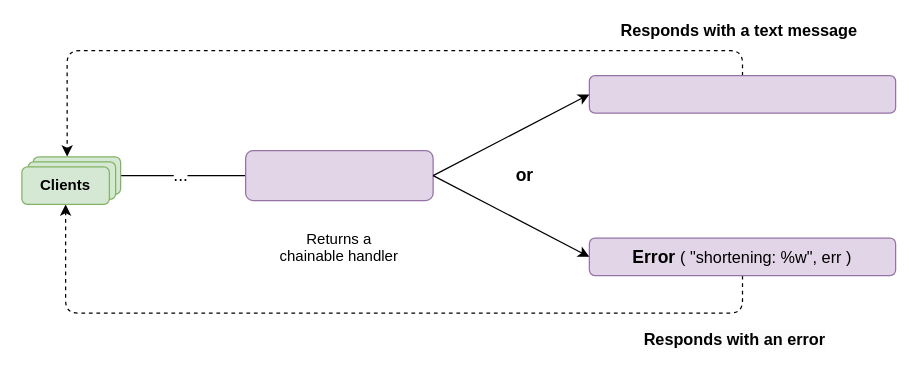
Some shapes in this 918 by 370 pixel diagram are drawn without their labels. Here are the shapes that lost their labels. From the top down, the centre of each, then its label:
At point 742,93: "Text ( http.StatusCreated, key.String() )".
At point 338,175: "Shorten(...) Handler".
